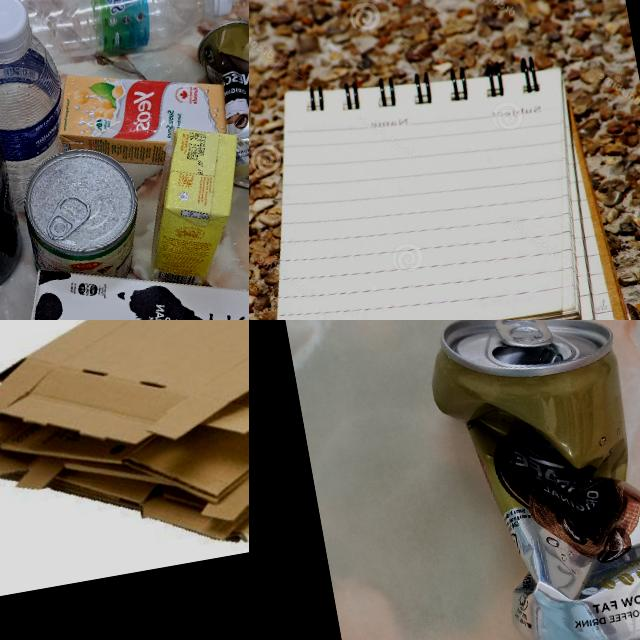aba de lata: (42, 191, 94, 241), (494, 320, 553, 356)
caixinha: (46, 47, 236, 182), (6, 217, 249, 320), (126, 118, 249, 291)
garrafa plástica: (0, 0, 220, 78), (0, 186, 121, 320), (0, 26, 78, 219)
lata: (412, 320, 640, 640), (15, 140, 152, 293), (192, 13, 249, 202)
papel: (249, 35, 634, 320)
papelão: (0, 320, 249, 595)
tampa plástica: (0, 0, 32, 57), (210, 0, 236, 15)
